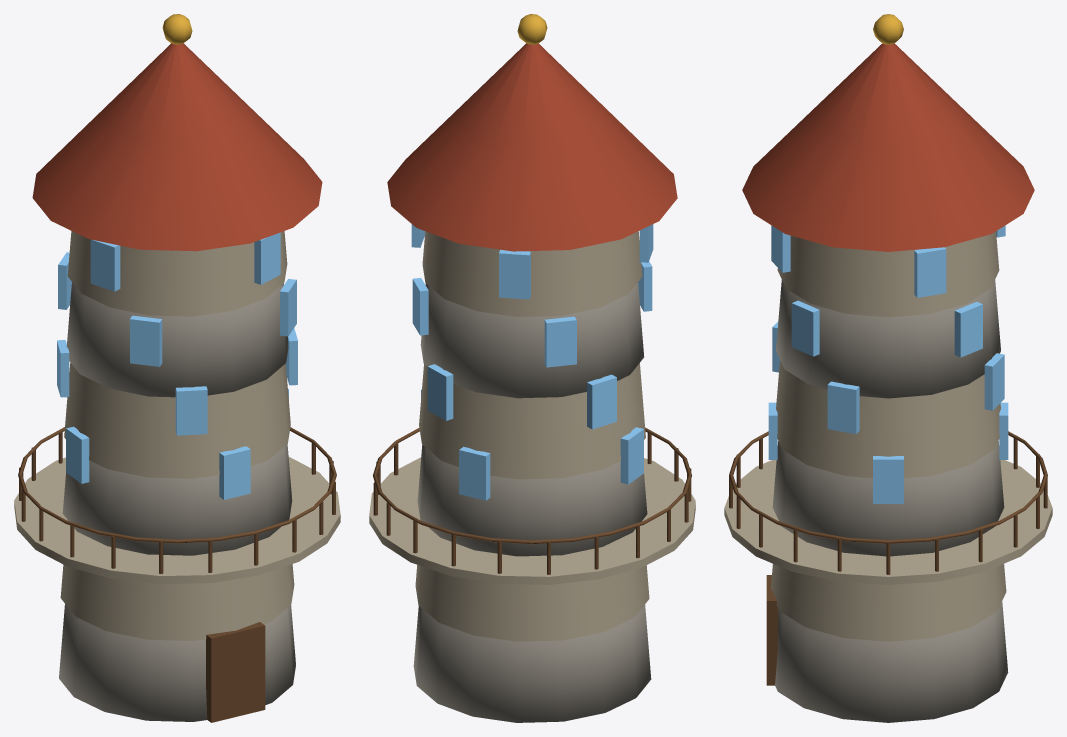
File: math_tower.glb
3 views of the same model, side by side, from view 1: azimuth 30°, elevation 25°; view 2: azimuth 150°, elevation 25°; view 3: azimuth 270°, elevation 25° (orthographic).
Visible parts, largest first — view 1: math_tower_mesh; view 2: math_tower_mesh; view 3: math_tower_mesh.
Part boxes in pixels (left/top/right/bottom): math_tower_mesh: left=14, top=14, right=340, bottom=722; math_tower_mesh: left=369, top=14, right=695, bottom=722; math_tower_mesh: left=724, top=14, right=1052, bottom=722.
Size of the model in its own units: 7.4 by 16.35 by 7.4.
